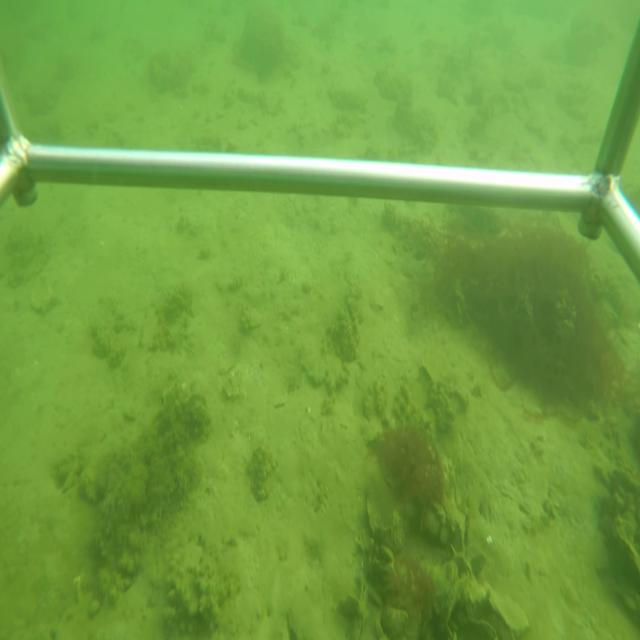Oyster-Indeterminate: (489, 585, 531, 637)
